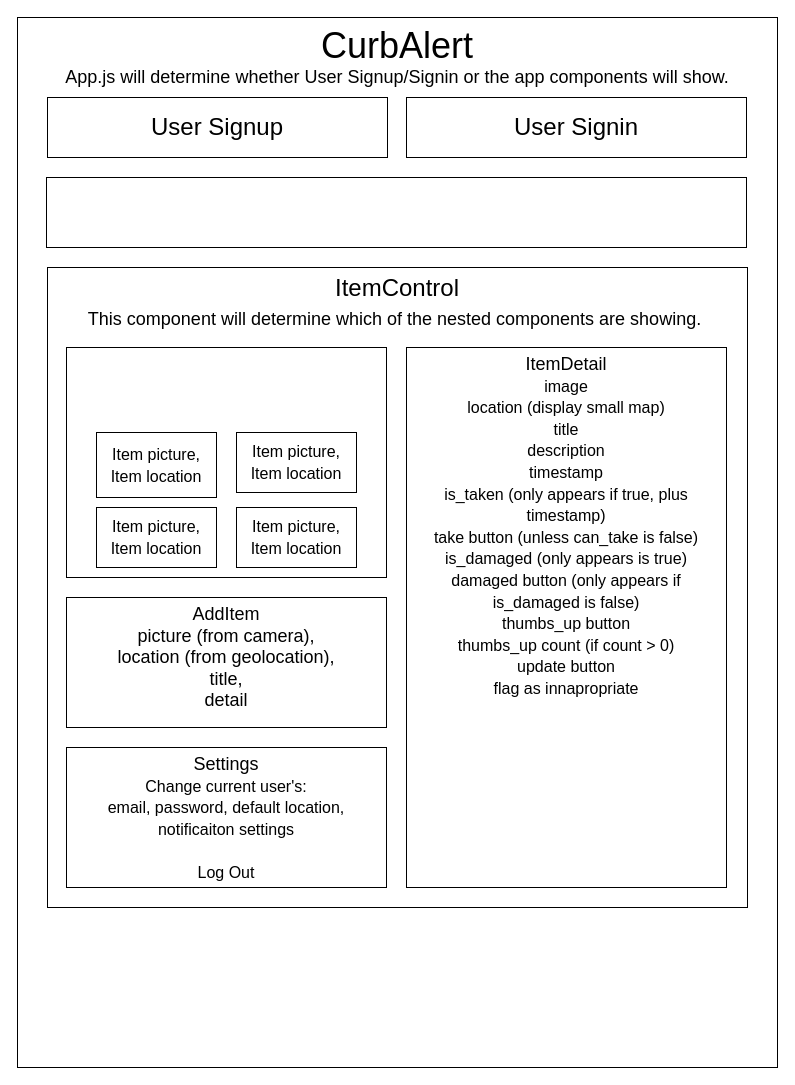
The diagram is 795 pixels wide and 1085 high, and some of its shapes have lost their labels. Each missing label, with the box of its shape:
Header Logo, Settings button, NewItem button: (46, 176, 746, 248)
ListItem Each Item links to ItemDetail page Option to display as map or list: (66, 346, 386, 578)
